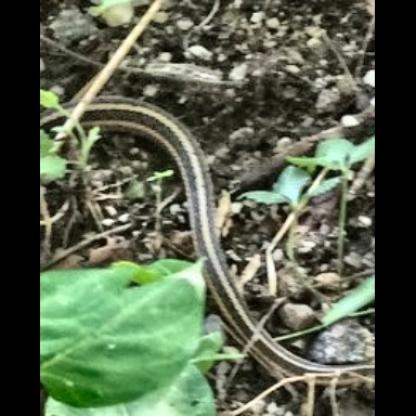Snake: (51, 17, 358, 416)
